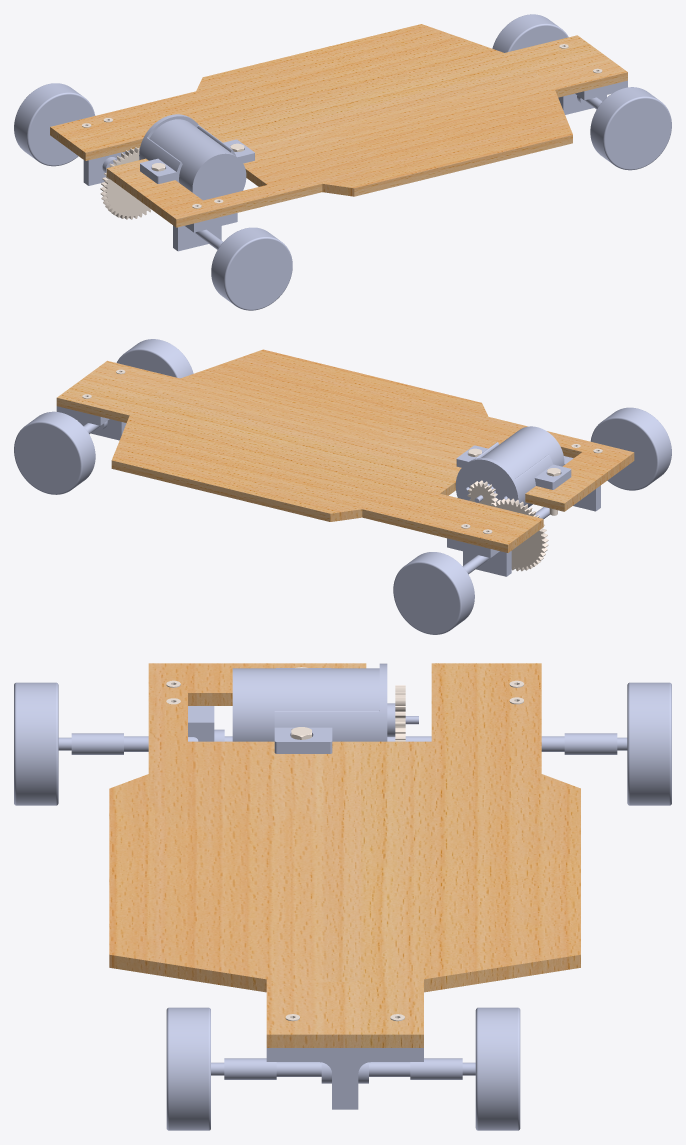
The model's file is FULL_car_assembly.gltf.
The picture shows the model from 3 angles, top to bottom: view 1: azimuth 30°, elevation 25°; view 2: azimuth 150°, elevation 25°; view 3: azimuth 270°, elevation 25°; orthographic projection. The views are drawn at different scales.
Visible parts, largest first — view 1: GearPrixChassisUpdated-1, Wheels-2, Wheels-1, Motor-1, Wheels-4, Motormount-1, Wheels-3, spur gear_iso-1, GearPrixLongAxleBracket-1, GearPrixShortAxleBracketUpdated-1, GearPrixLongAxleBracket-2; view 2: GearPrixChassisUpdated-1, Wheels-4, Wheels-3, Wheels-1, Motormount-1, Motor-1, Wheels-2, spur gear_iso-1, GearPrixLongAxleBracket-2, GearPrixShortAxleBracketUpdated-1, spur gear_iso-2, GearPrixLongAxleBracket-1; view 3: GearPrixChassisUpdated-1, Motor-1, Wheels-3, Wheels-2, Wheels-1, Wheels-4, Motormount-1, GearPrixShortAxleBracketUpdated-1, front shaft-1, wheel coupler-4, wheel coupler-1, wheel coupler-2 (+3 smaller).
Part boxes in pixels (x1=…): GearPrixChassisUpdated-1: x1=50, y1=24, x2=627, y2=227; Wheels-2: x1=590, y1=87, x2=671, y2=170; Wheels-1: x1=211, y1=227, x2=292, y2=310; Motor-1: x1=149, y1=119, x2=246, y2=200; Wheels-4: x1=14, y1=83, x2=95, y2=166; Motormount-1: x1=139, y1=114, x2=254, y2=183; Wheels-3: x1=492, y1=14, x2=568, y2=52; spur gear_iso-1: x1=100, y1=147, x2=150, y2=219; GearPrixLongAxleBracket-1: x1=173, y1=213, x2=237, y2=251; GearPrixShortAxleBracketUpdated-1: x1=558, y1=80, x2=627, y2=114; GearPrixLongAxleBracket-2: x1=83, y1=150, x2=129, y2=185; GearPrixChassisUpdated-1: x1=56, y1=349, x2=634, y2=552; Wheels-4: x1=393, y1=552, x2=474, y2=634; Wheels-3: x1=14, y1=411, x2=95, y2=494; Wheels-1: x1=590, y1=407, x2=671, y2=490; Motormount-1: x1=455, y1=442, x2=571, y2=507; Motor-1: x1=474, y1=426, x2=564, y2=502; Wheels-2: x1=116, y1=339, x2=193, y2=378; spur gear_iso-1: x1=492, y1=498, x2=548, y2=571; GearPrixLongAxleBracket-2: x1=447, y1=538, x2=511, y2=576; GearPrixShortAxleBracketUpdated-1: x1=56, y1=406, x2=126, y2=440; spur gear_iso-2: x1=467, y1=480, x2=498, y2=506; GearPrixLongAxleBracket-1: x1=563, y1=456, x2=600, y2=511; GearPrixChassisUpdated-1: x1=109, y1=663, x2=580, y2=1047; Motor-1: x1=232, y1=668, x2=418, y2=741; Wheels-3: x1=462, y1=1007, x2=520, y2=1130; Wheels-2: x1=166, y1=1007, x2=224, y2=1130; Wheels-1: x1=14, y1=682, x2=71, y2=805; Wheels-4: x1=617, y1=682, x2=671, y2=805; Motormount-1: x1=274, y1=663, x2=387, y2=753; GearPrixShortAxleBracketUpdated-1: x1=266, y1=1048, x2=423, y2=1109; front shaft-1: x1=276, y1=1062, x2=410, y2=1076; wheel coupler-4: x1=564, y1=733, x2=617, y2=754; wheel coupler-1: x1=71, y1=733, x2=123, y2=754; wheel coupler-2: x1=224, y1=1058, x2=276, y2=1079.
Bounding box in the file's own units: 0.344 × 0.0651 × 0.2511.
5 materials, 1 textured.
